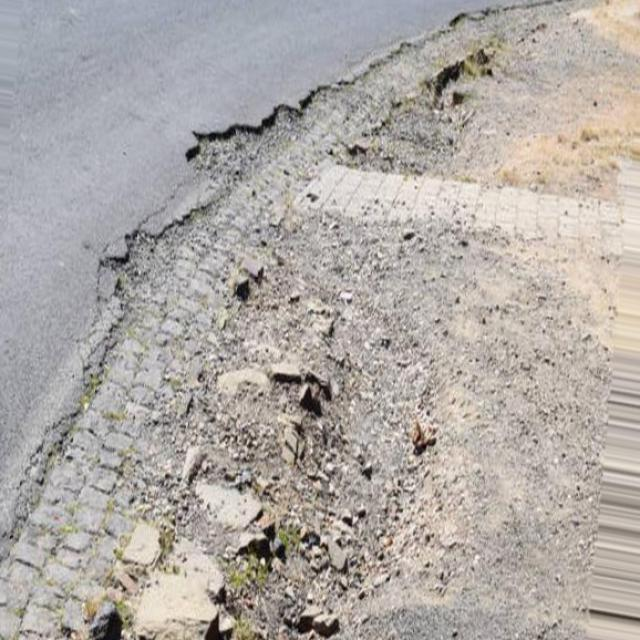Pinggir: (0, 0, 544, 640)
